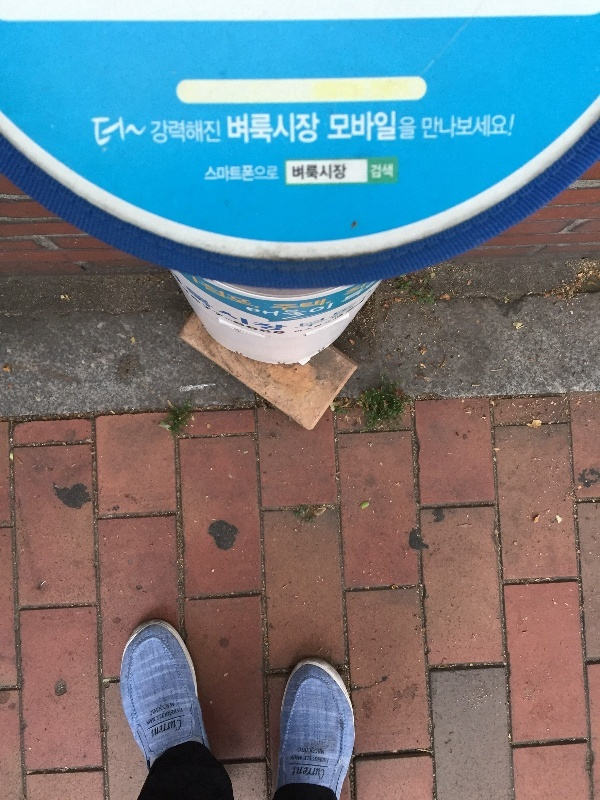text: (177, 270, 192, 347), (193, 270, 208, 347), (209, 270, 224, 347), (225, 270, 240, 347), (241, 270, 256, 347), (257, 270, 272, 347), (273, 270, 287, 347), (305, 281, 320, 344), (321, 281, 336, 344), (337, 281, 352, 344), (353, 281, 368, 344), (273, 284, 289, 341), (193, 284, 208, 341), (209, 284, 224, 341), (225, 284, 240, 341), (241, 284, 256, 341), (257, 284, 272, 341), (293, 281, 304, 344), (369, 281, 379, 344), (241, 110, 256, 146), (257, 110, 272, 146), (273, 110, 288, 146), (289, 110, 304, 146), (305, 110, 320, 146), (97, 115, 112, 150), (113, 115, 128, 150), (129, 115, 144, 150), (337, 109, 352, 144), (353, 109, 368, 144), (369, 109, 384, 144), (385, 109, 400, 144), (401, 109, 416, 144), (305, 300, 320, 335), (321, 300, 336, 335), (337, 300, 352, 335), (209, 280, 224, 313), (225, 280, 240, 313), (241, 280, 256, 313), (227, 110, 240, 146), (161, 117, 176, 146), (177, 117, 192, 146), (193, 117, 208, 146), (433, 113, 448, 142), (449, 113, 464, 142), (465, 113, 480, 142), (481, 113, 496, 142), (497, 113, 512, 142), (353, 280, 368, 309), (209, 117, 223, 146), (293, 300, 304, 335), (340, 280, 352, 309), (186, 284, 192, 341), (161, 718, 176, 740), (369, 280, 380, 309), (353, 281, 368, 302), (172, 270, 176, 347), (150, 117, 160, 146), (422, 113, 432, 142), (209, 164, 224, 183), (225, 164, 240, 183), (241, 164, 256, 183), (257, 164, 272, 183), (161, 707, 176, 726), (305, 163, 320, 181), (321, 163, 336, 181), (369, 284, 379, 311), (369, 163, 384, 180), (273, 298, 288, 315), (289, 298, 304, 315), (305, 298, 320, 315), (147, 707, 160, 726), (89, 115, 96, 150), (359, 284, 368, 311), (291, 163, 304, 181), (201, 280, 208, 313), (161, 701, 175, 717), (330, 109, 336, 144), (353, 300, 359, 335), (342, 281, 352, 302), (305, 766, 320, 780), (321, 298, 333, 315), (337, 163, 348, 181), (151, 718, 160, 740), (257, 280, 262, 313), (150, 701, 160, 717), (293, 766, 304, 780), (385, 163, 394, 180), (273, 164, 281, 183), (177, 268, 184, 289), (305, 755, 320, 764), (195, 276, 208, 286), (170, 268, 176, 289), (305, 747, 320, 755), (291, 755, 304, 764), (513, 113, 517, 142), (177, 707, 183, 726), (177, 718, 182, 740), (145, 115, 148, 150), (321, 755, 329, 764), (321, 766, 326, 780), (299, 747, 304, 755), (417, 109, 418, 144), (321, 747, 325, 755)
